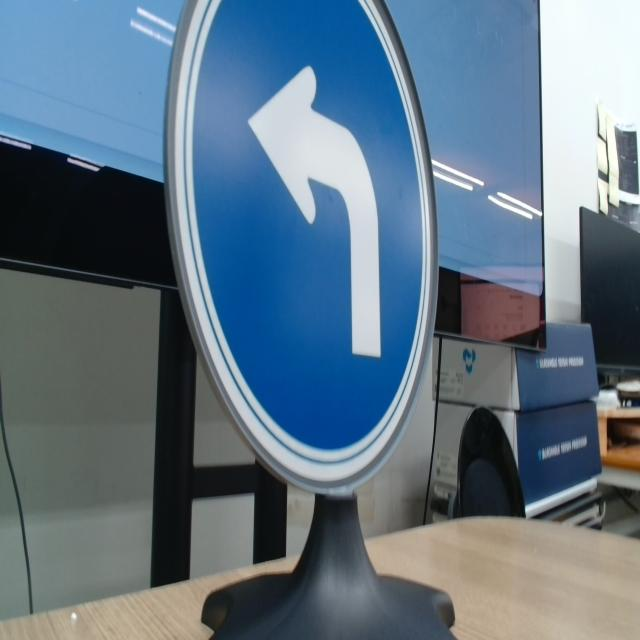left_direction: (160, 0, 443, 497)
